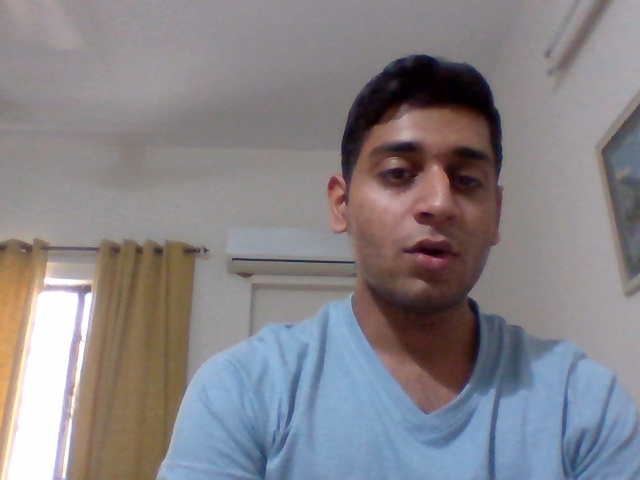surprised: (355, 112, 487, 313)
